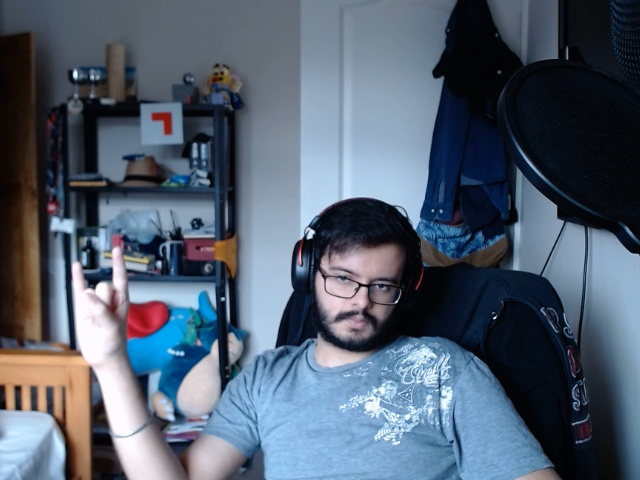Rock on: (66, 237, 136, 379)
